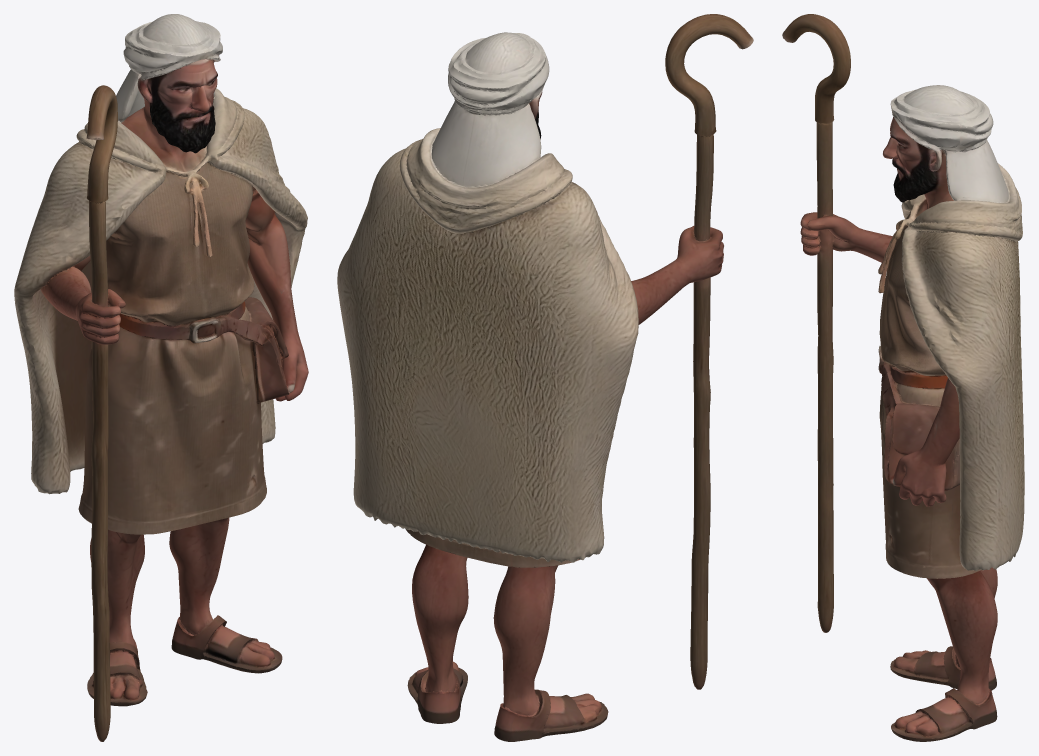
The model's file is pastore.glb.
3 renders of one model, left to right at view 1: azimuth 30°, elevation 25°; view 2: azimuth 150°, elevation 25°; view 3: azimuth 270°, elevation 25°, orthographic. The views are drawn at different scales.
Parts seen in each view (by area): view 1: model; view 2: model; view 3: model.
Part boxes in pixels (x1,y1,x2,y2): model: [14, 14, 308, 741]; model: [337, 14, 753, 741]; model: [782, 14, 1024, 741].
Size of the model in its own units: 0.8391 by 1.72 by 0.6066.
1 material, 1 textured.
